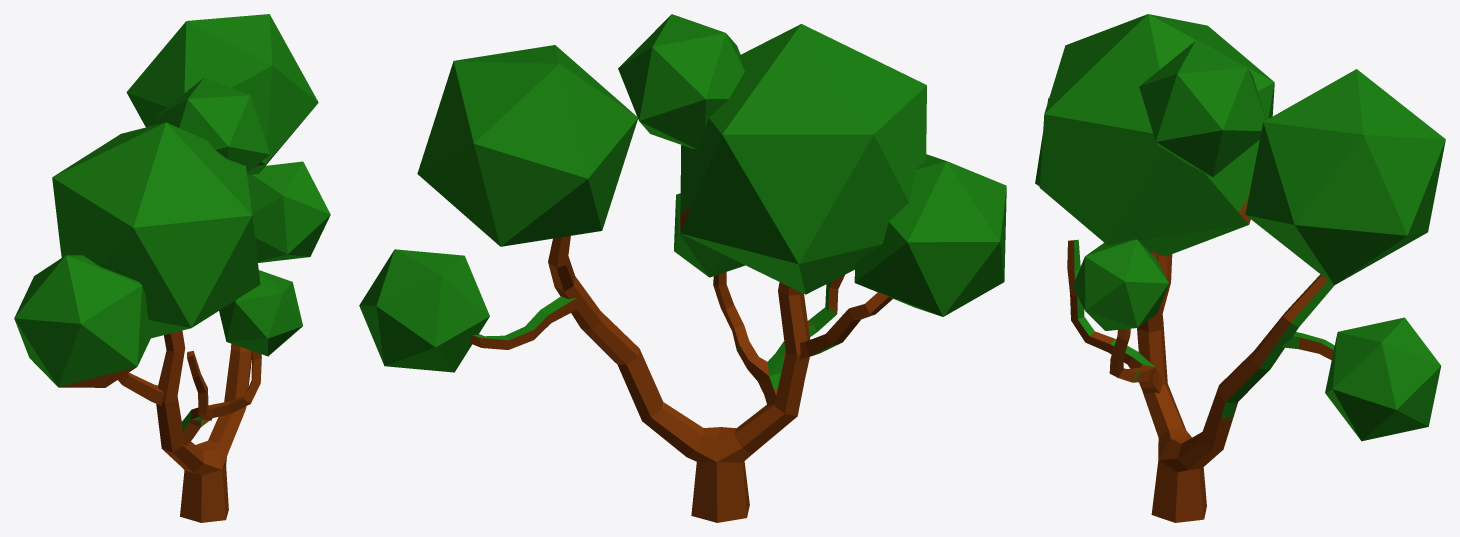
File: tree.obj
3 renders of one model, left to right at view 1: azimuth 30°, elevation 25°; view 2: azimuth 150°, elevation 25°; view 3: azimuth 270°, elevation 25°, orthographic. The views are drawn at different scales.
Parts seen in each view (by area): view 1: Tree_lp_11; view 2: Tree_lp_11; view 3: Tree_lp_11.
Boxes of the visible parts, box(x1,y1,x2,y2) form: Tree_lp_11: box(14, 14, 330, 522); Tree_lp_11: box(359, 14, 1006, 522); Tree_lp_11: box(1035, 14, 1445, 522).
Size of the model in its own units: 27.98 by 26.54 by 20.8.
